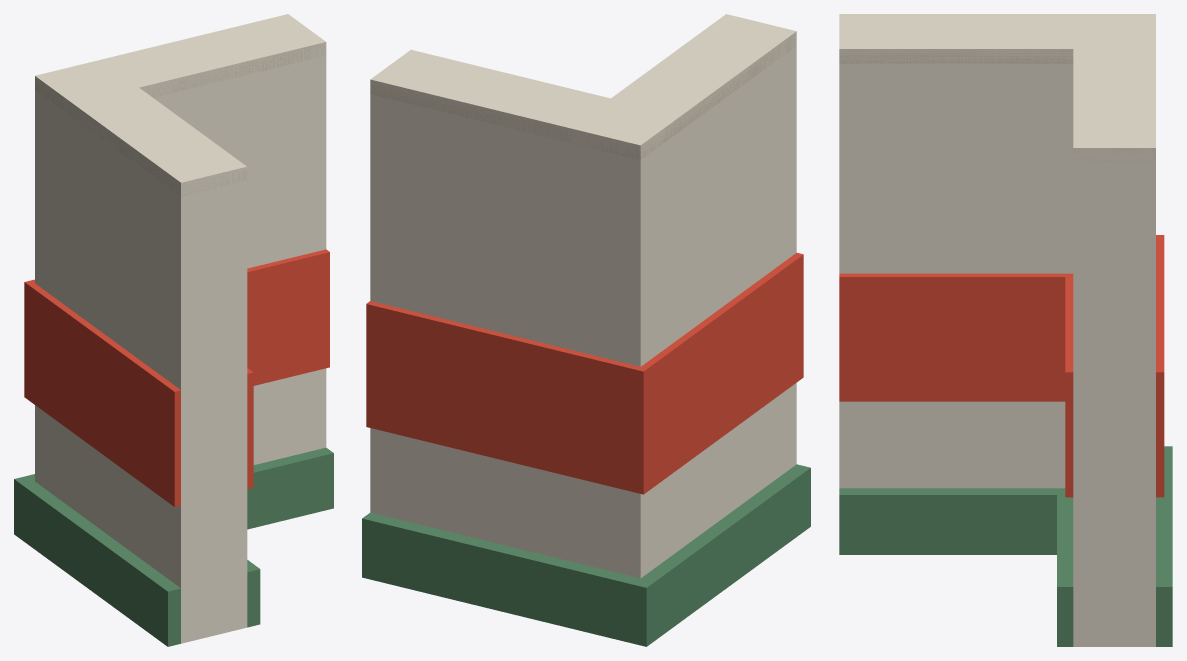
File: partition-elbow.glb
3 renders of one model, left to right at view 1: azimuth 30°, elevation 25°; view 2: azimuth 150°, elevation 25°; view 3: azimuth 270°, elevation 25°, orthographic. The views are drawn at different scales.
Visible parts, largest first — view 1: partition-elbow; view 2: partition-elbow; view 3: partition-elbow.
Part boxes in pixels (box(x1,y1,x2,y2)): partition-elbow: box(14, 14, 333, 646); partition-elbow: box(362, 14, 810, 646); partition-elbow: box(839, 14, 1172, 646).
Size of the model in its own units: 0.605 by 1 by 0.605.
Materials: 1 (1 with a texture image).
